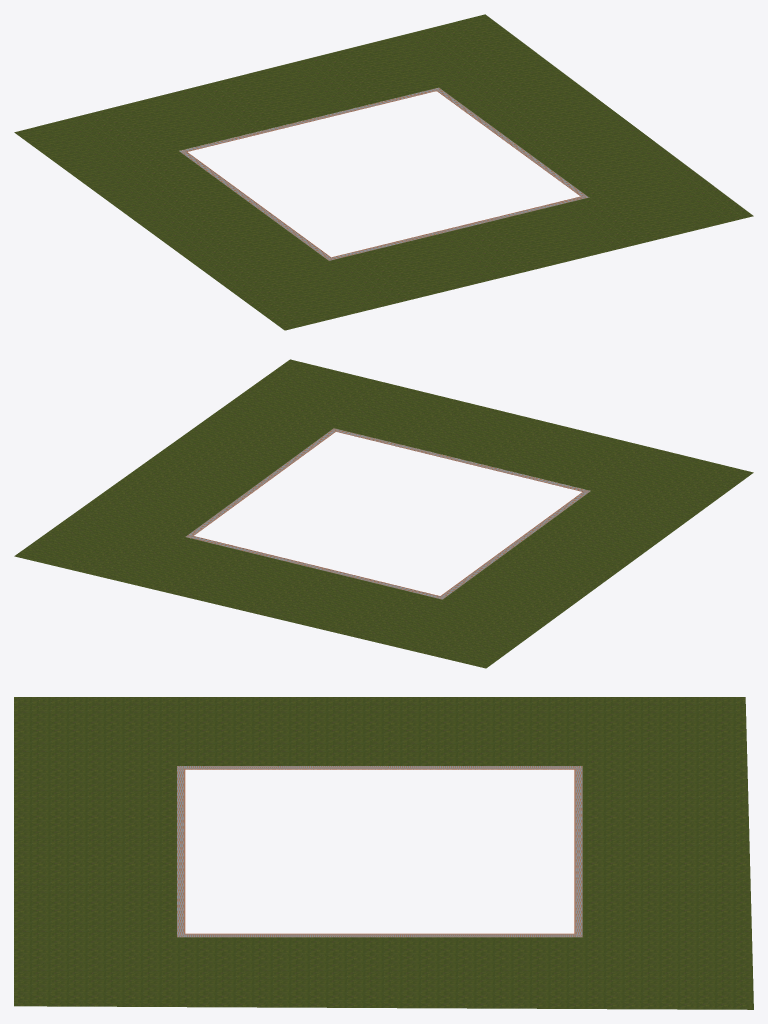
Rendered from basic_out.FBX.
3 renders of one model, top to bottom at view 1: azimuth 30°, elevation 25°; view 2: azimuth 150°, elevation 25°; view 3: azimuth 270°, elevation 25°, orthographic. The views are drawn at different scales.
Parts seen in each view (by area): view 1: out, Plane024, Plane025; view 2: out, Plane024, Plane025; view 3: out, Plane024, Plane025.
Part boxes in pixels (bbox=[...]): out: bbox=[14, 14, 753, 330]; Plane024: bbox=[179, 87, 588, 260]; Plane025: bbox=[186, 90, 581, 257]; out: bbox=[14, 359, 753, 668]; Plane024: bbox=[185, 428, 590, 599]; Plane025: bbox=[193, 431, 583, 596]; out: bbox=[14, 697, 753, 1009]; Plane024: bbox=[177, 766, 582, 937]; Plane025: bbox=[184, 769, 575, 934].
Bounding box in the file's own units: 399387 × 100 × 399395.
